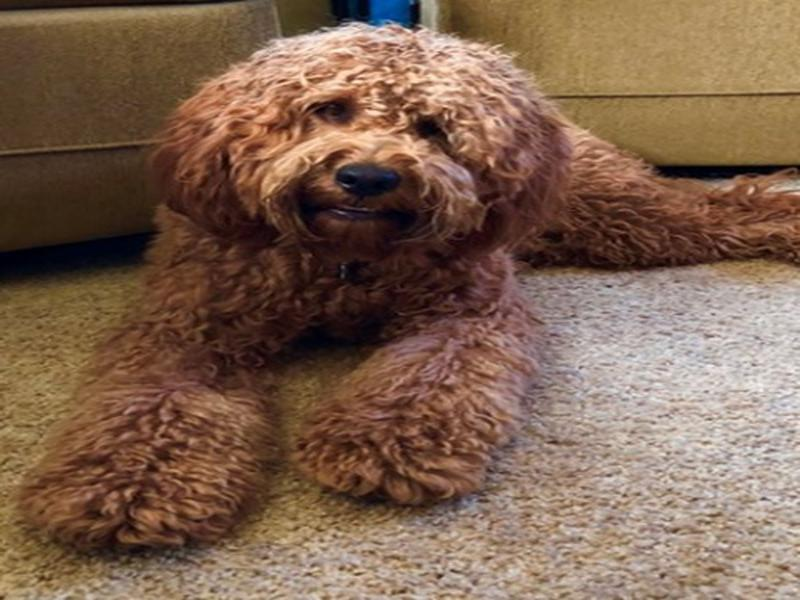dog_down: (22, 21, 799, 552)
